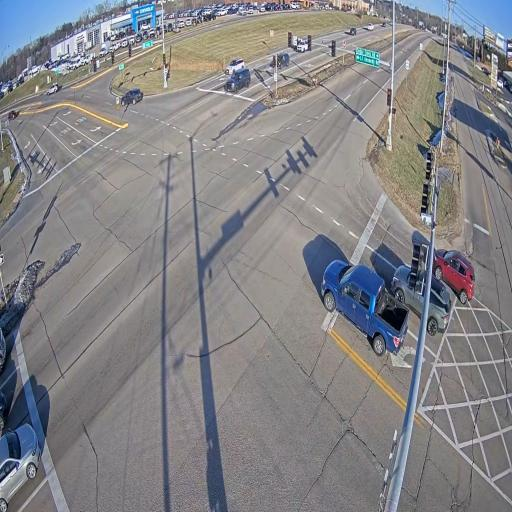pickup: (321, 260, 409, 355)
sedan: (0, 424, 42, 512)
suv: (433, 249, 475, 303), (391, 265, 425, 312), (427, 272, 451, 336), (225, 68, 251, 92), (120, 88, 143, 106), (225, 58, 245, 74), (278, 52, 289, 69), (47, 82, 59, 95), (297, 40, 308, 52), (8, 110, 17, 119), (350, 27, 357, 35), (366, 23, 373, 30), (382, 22, 386, 27)
